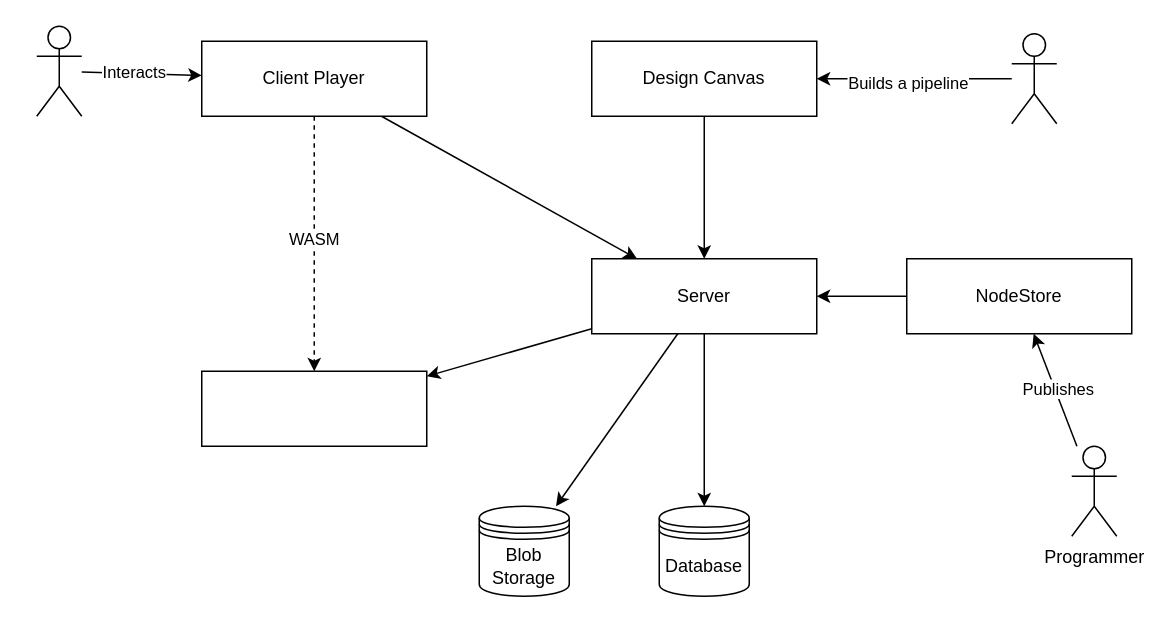
Some shapes in this 1170 by 623 pixel diagram are drawn without their labels. Here are the shapes that lost their labels. From the top down, the centre of each, then its label:
At pixel 58 70: "Watcher".
At pixel 1033 78: "Designer".
At pixel 313 408: "Engine".
